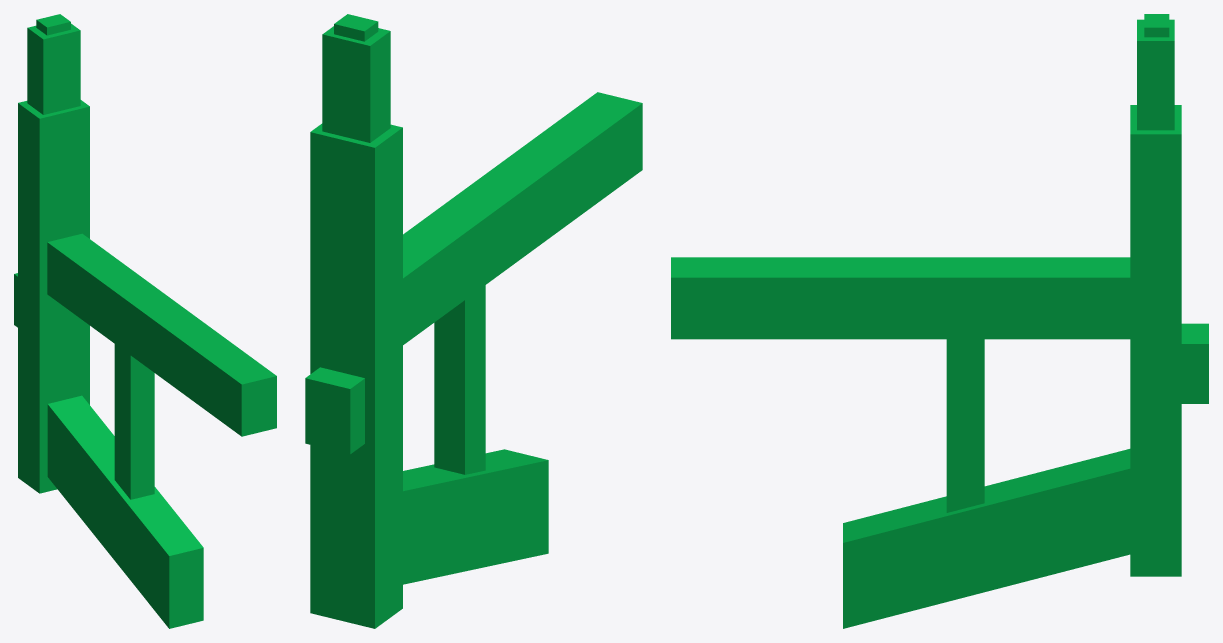
Rendered from MachineGun.gltf.
3 views of the same model, side by side, from view 1: azimuth 30°, elevation 25°; view 2: azimuth 150°, elevation 25°; view 3: azimuth 270°, elevation 25° (orthographic). The views are drawn at different scales.
Parts seen in each view (by area): view 1: MachieGun; view 2: MachieGun; view 3: MachieGun.
Part boxes in pixels (x1,y1,x2,y2): MachieGun: (14, 14, 276, 628); MachieGun: (305, 14, 642, 628); MachieGun: (671, 14, 1208, 628).
Bounding box in the file's own units: 0.3161 × 3.03 × 2.47.
